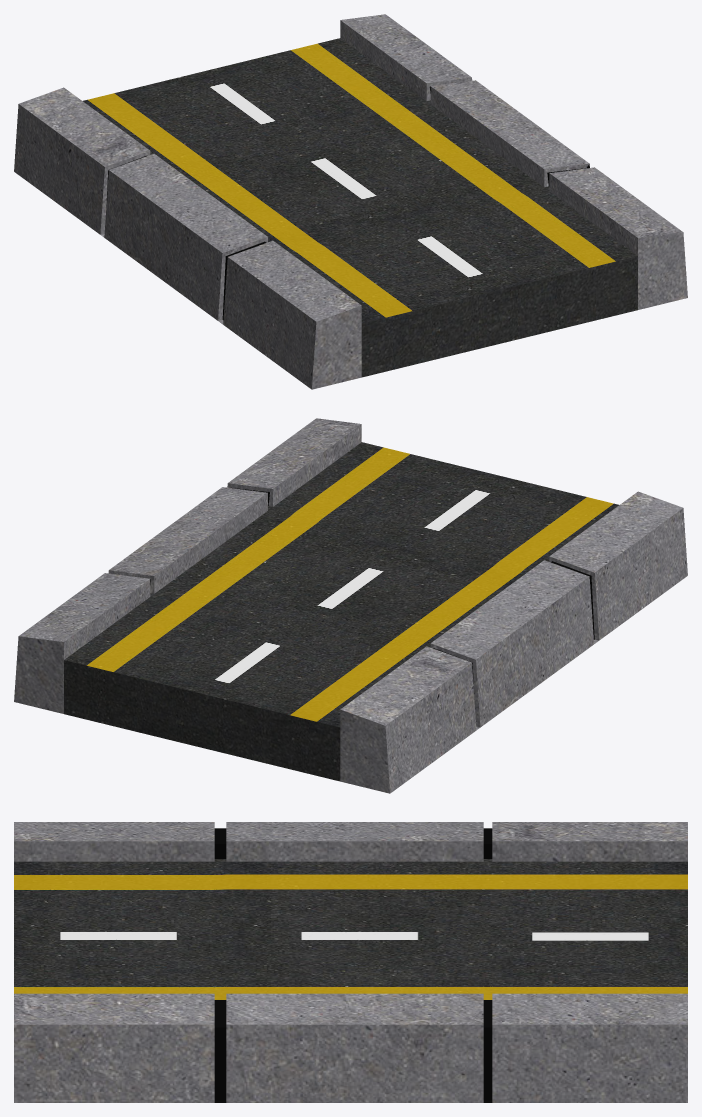
Rendered from Road Straight OBJ.obj.
3 renders of one model, top to bottom at view 1: azimuth 30°, elevation 25°; view 2: azimuth 150°, elevation 25°; view 3: azimuth 270°, elevation 25°, orthographic. The views are drawn at different scales.
Parts seen in each view (by area): view 1: ROAD__Plain003; view 2: ROAD__Plain003; view 3: ROAD__Plain003.
Boxes of the visible parts, x1,y1,x2,y2 form: ROAD__Plain003: (14,14,687,389); ROAD__Plain003: (14,418,687,793); ROAD__Plain003: (14,822,687,1102).
Size of the model in its own units: 58.32 by 10.74 by 80.
